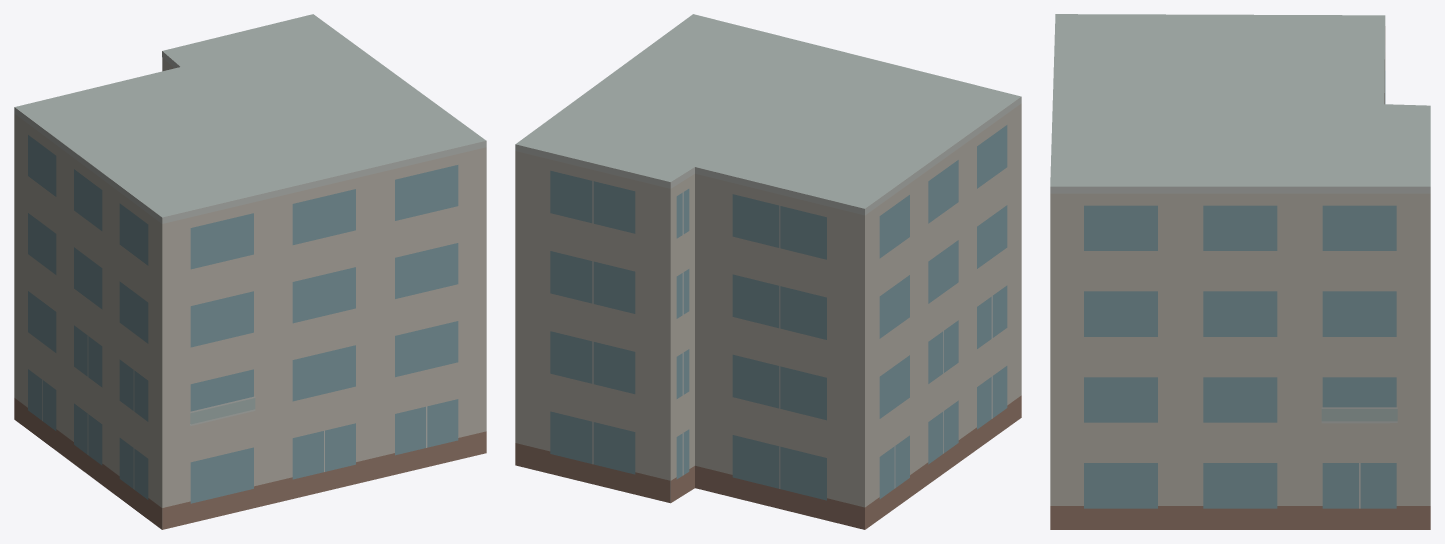
File: survey-upis-33005710.glb
3 renders of one model, left to right at view 1: azimuth 30°, elevation 25°; view 2: azimuth 150°, elevation 25°; view 3: azimuth 270°, elevation 25°, orthographic. The views are drawn at different scales.
Parts seen in each view (by area): view 1: survey-upis-33005710.tmp; view 2: survey-upis-33005710.tmp; view 3: survey-upis-33005710.tmp.
Boxes of the visible parts, x1,y1,x2,y2 form: survey-upis-33005710.tmp: [14, 14, 486, 529]; survey-upis-33005710.tmp: [515, 14, 1021, 529]; survey-upis-33005710.tmp: [1050, 14, 1430, 529].
Size of the model in its own units: 12.72 by 11.75 by 11.82.
